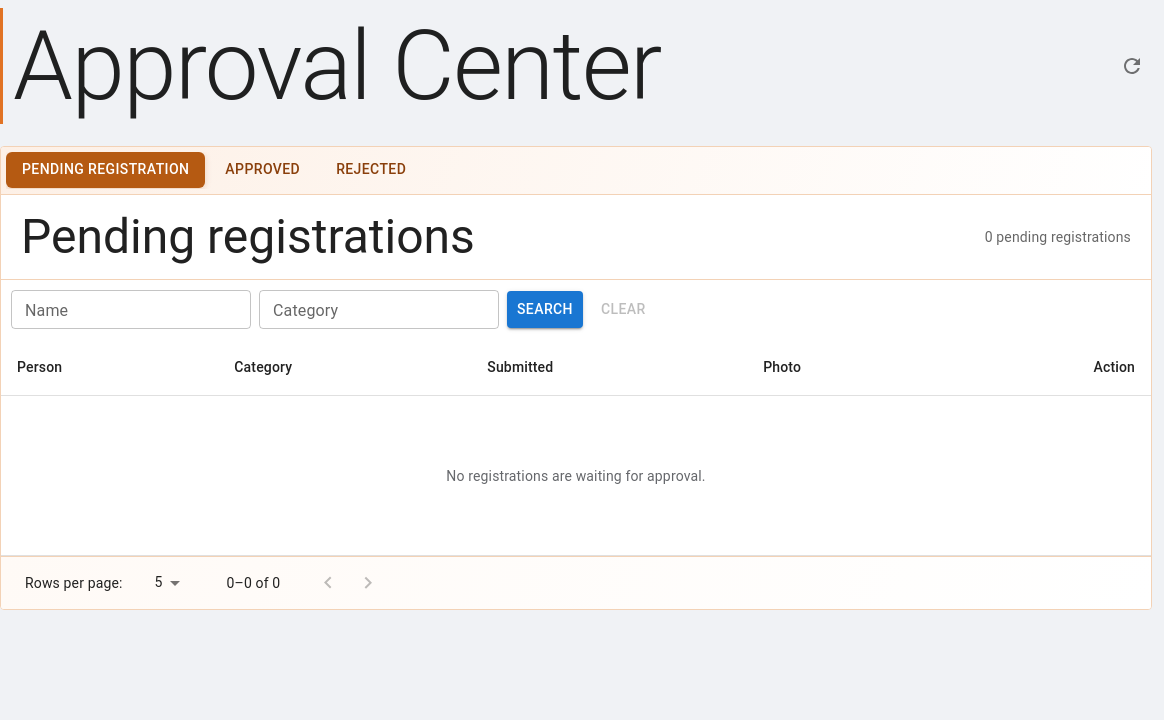
Test: resubmits a rejected registration and shows it in Pending Registration
Click the tab "Rejected" at [371, 170], box [320,152,422,188]
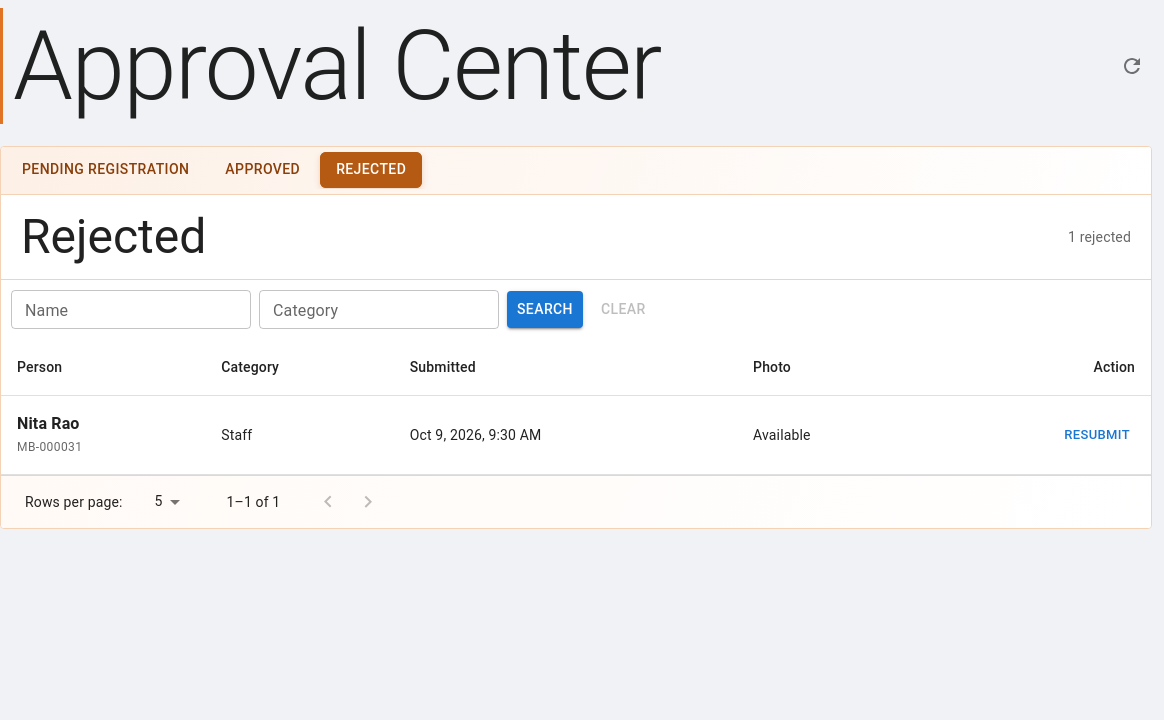
Expected: the text "Nita Rao" is shown, [17,414,80,433]
Click the button "Resubmit" at [1097, 435], box [1059,420,1135,450]
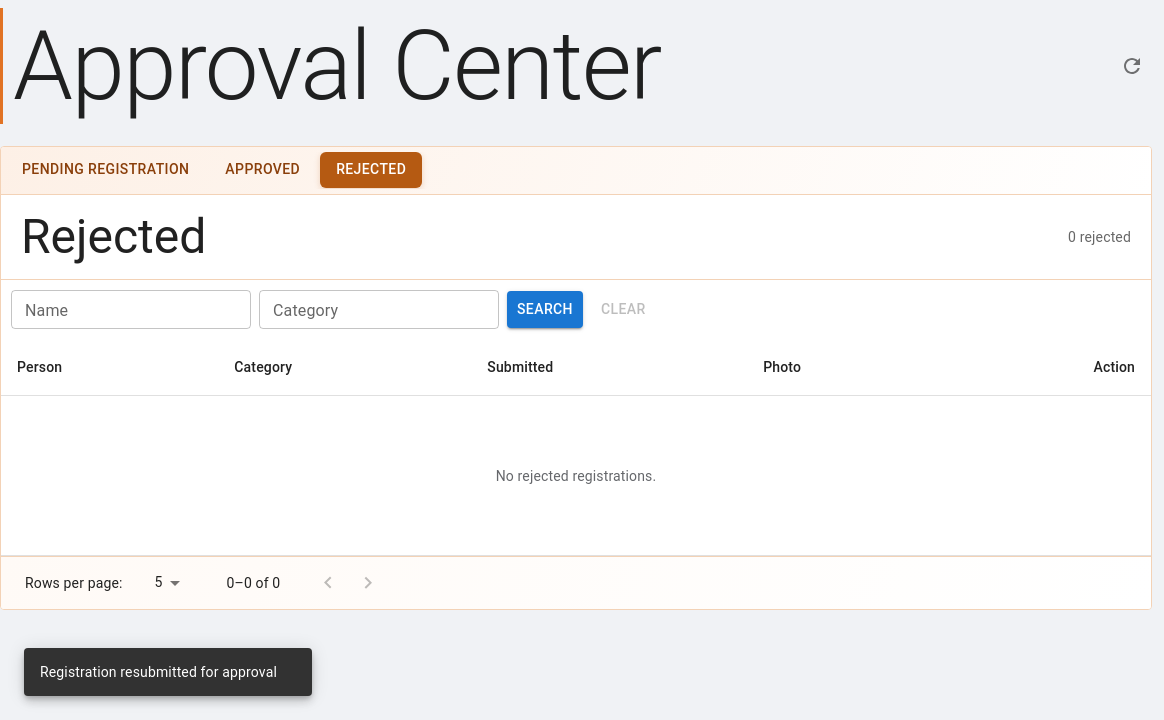
Expected: the text "Registration resubmitted for approval" is shown, [40,664,277,680]
Click the tab "Pending Registration" at [106, 170], box [6,152,205,188]
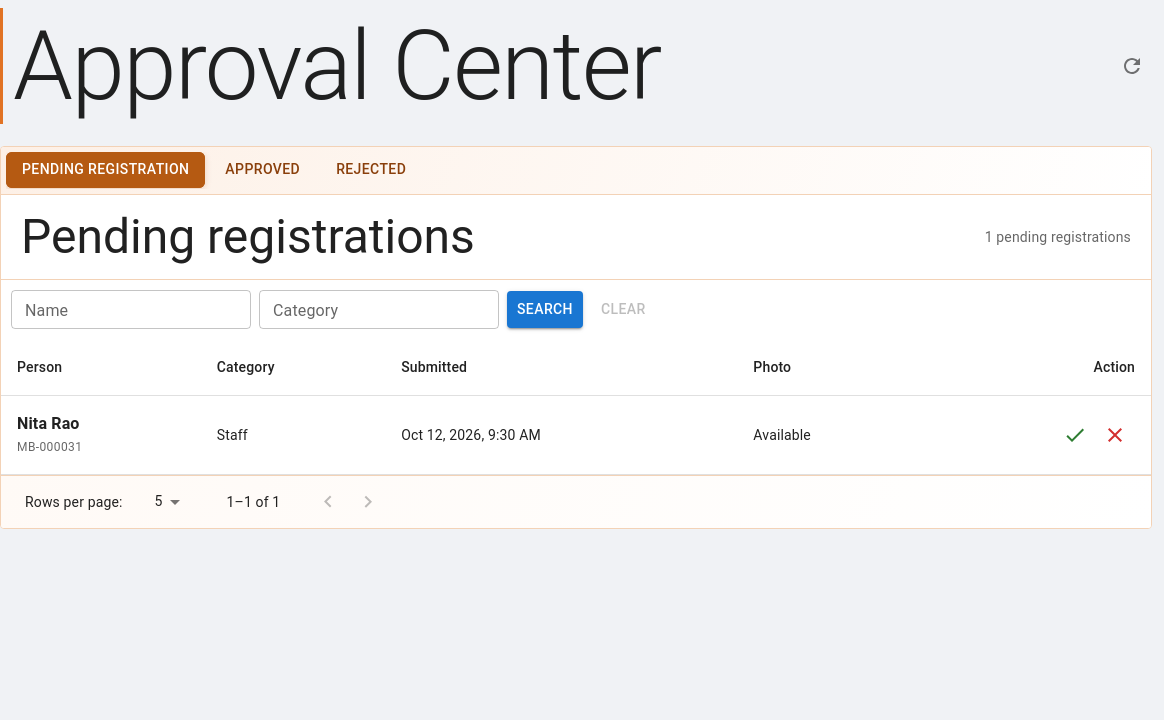
Expected: the text "Nita Rao" is shown, [17,414,80,433]
